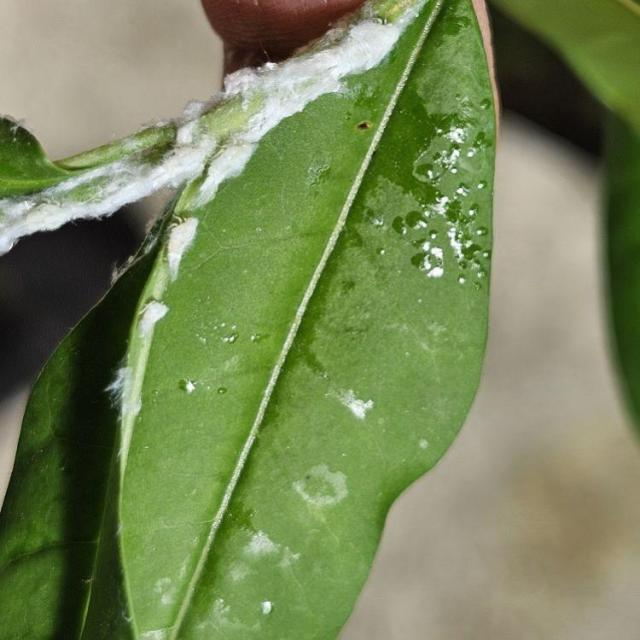Psyllid: (0, 0, 426, 256), (106, 216, 196, 480)
